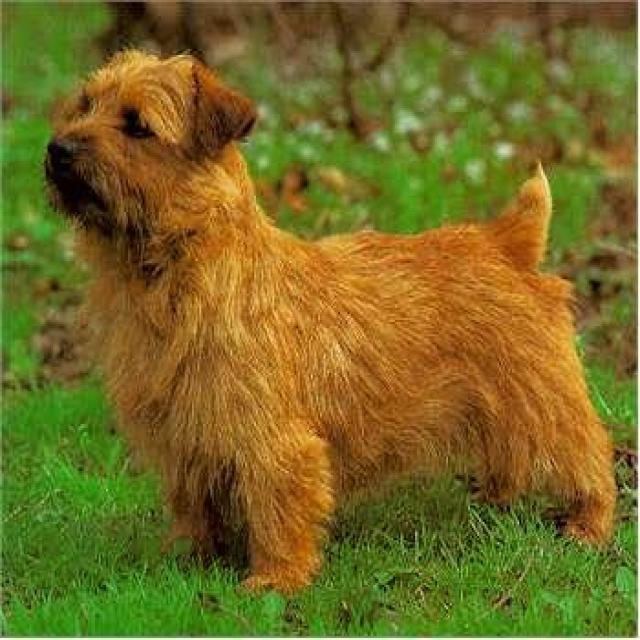dogs: (40, 42, 620, 578)
